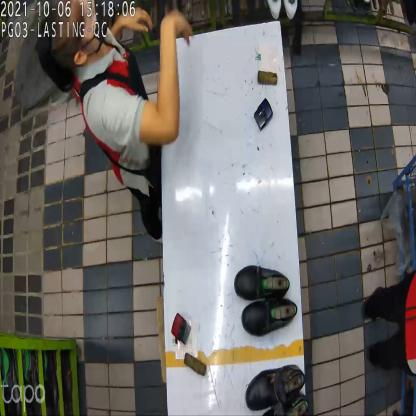shoes: (232, 262, 298, 333), (242, 361, 312, 416)
stamp: (254, 97, 274, 131), (173, 310, 192, 344)
